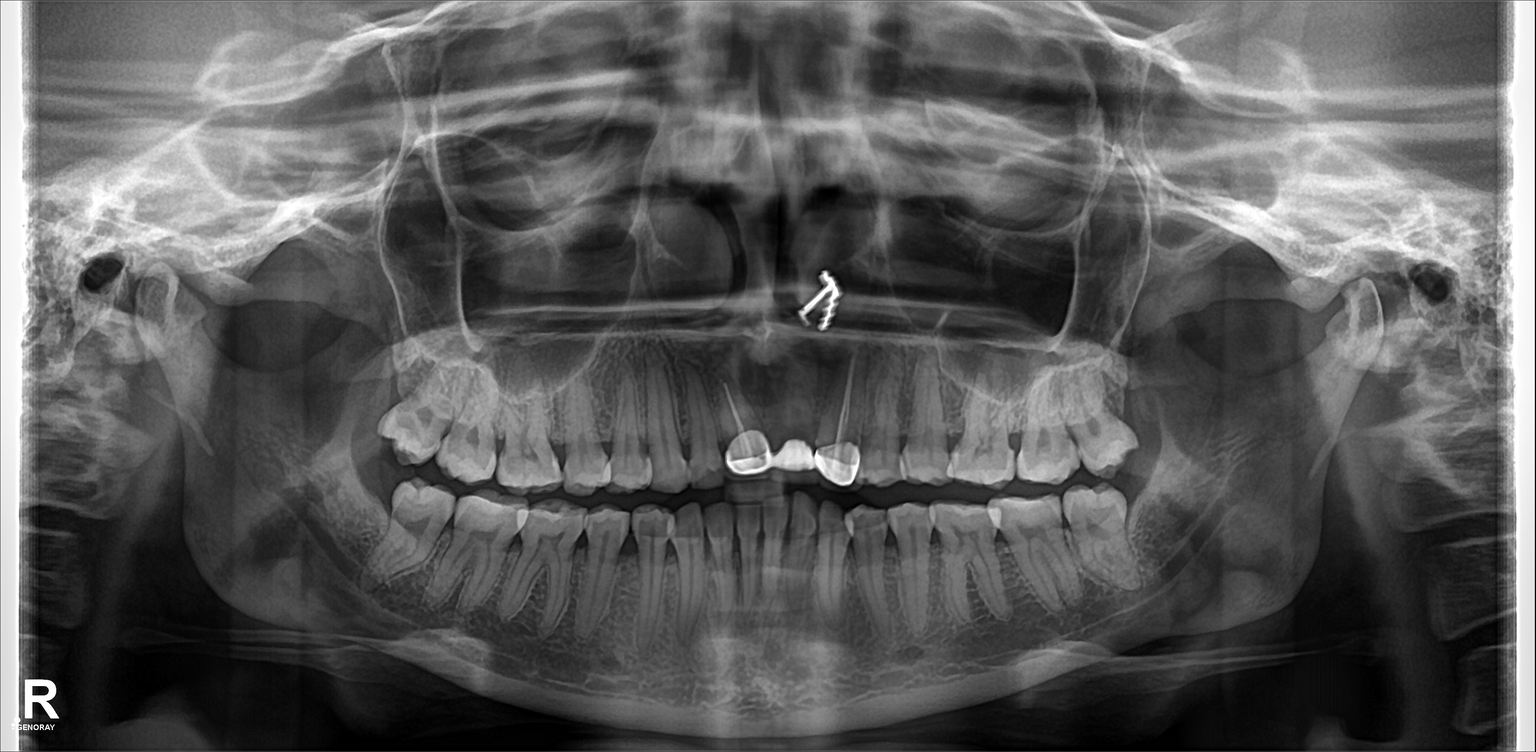Endodontically Treated Tooth: (711, 374, 770, 483), (765, 359, 818, 478), (819, 357, 863, 481)
Missing Tooth: (1117, 352, 1170, 460), (343, 460, 396, 565)
